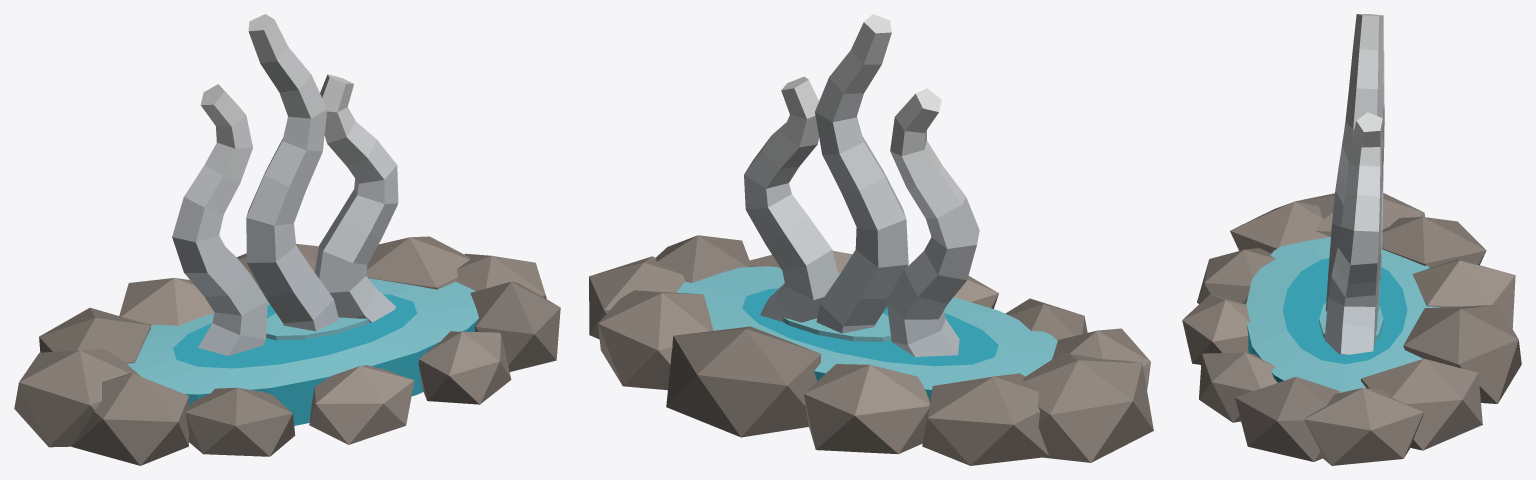
File: habitat_prop_steam.fbx
3 views of the same model, side by side, from view 1: azimuth 30°, elevation 25°; view 2: azimuth 150°, elevation 25°; view 3: azimuth 270°, elevation 25° (orthographic). The views are drawn at different scales.
Visible parts, largest first — view 1: habitat_prop_steam; view 2: habitat_prop_steam; view 3: habitat_prop_steam.
Part boxes in pixels (x1,y1,x2,y2): habitat_prop_steam: (14, 14, 560, 465); habitat_prop_steam: (589, 14, 1153, 465); habitat_prop_steam: (1182, 14, 1521, 465).
Bounding box in the file's own units: 1.79 × 1.16 × 1.08.
